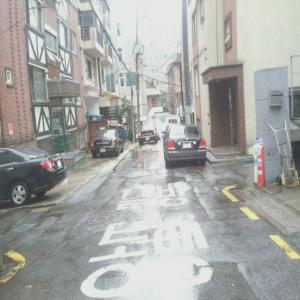Vehicle-registration-plate: (184, 142, 192, 150), (57, 160, 63, 167)
